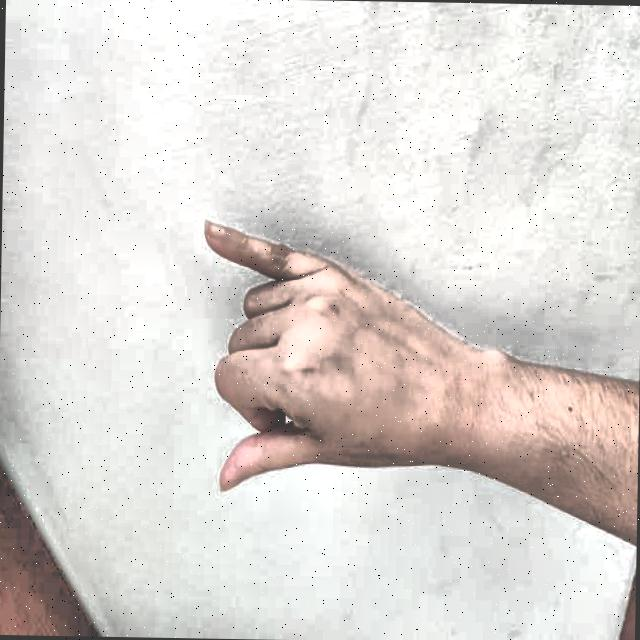Oi: (174, 178, 483, 534)
